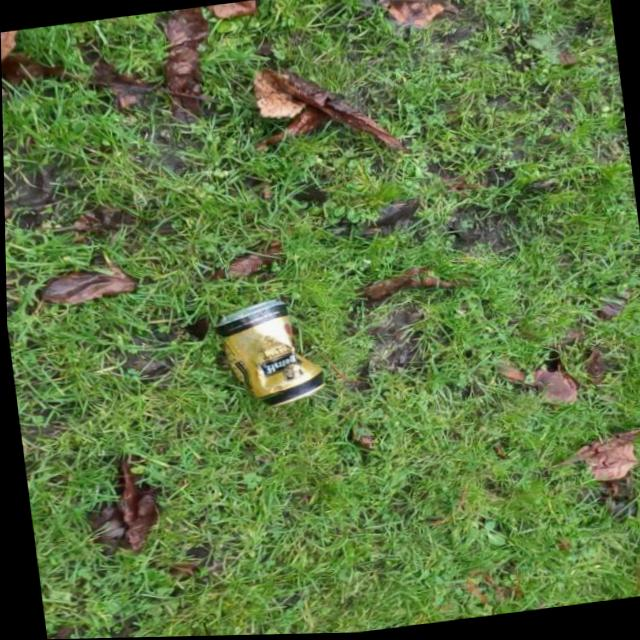Can-Metal: (205, 293, 328, 416)
